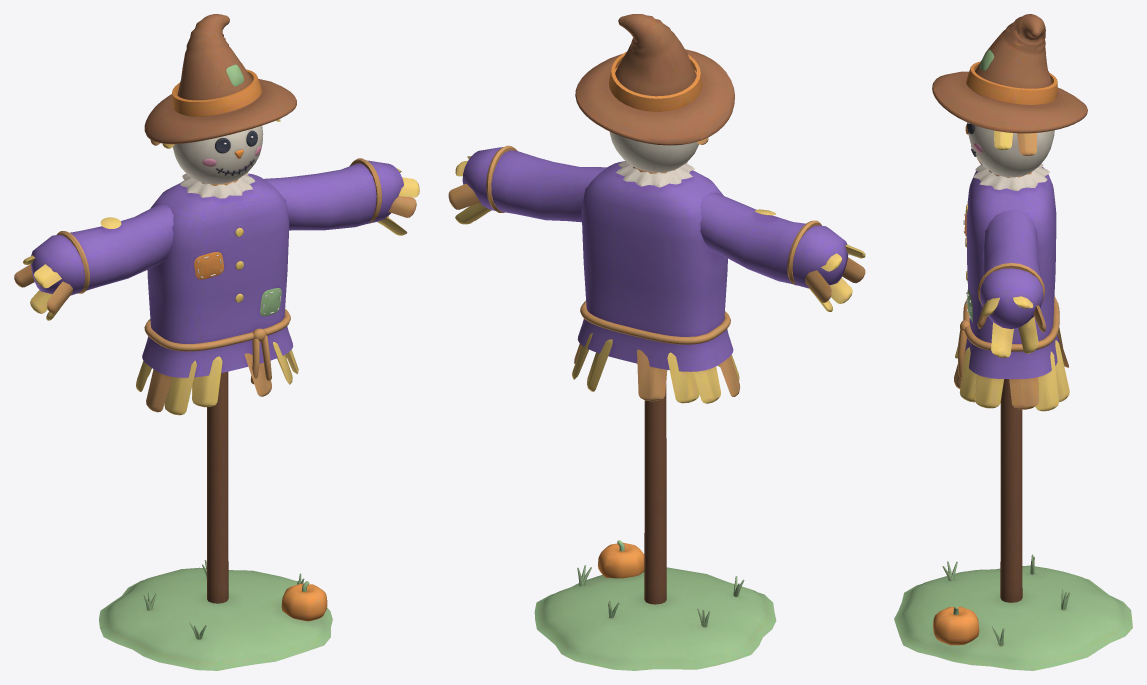
The model's file is espantapajaros.glb.
The picture shows the model from 3 angles, left to right: view 1: azimuth 30°, elevation 25°; view 2: azimuth 150°, elevation 25°; view 3: azimuth 270°, elevation 25°; orthographic projection. The views are drawn at different scales.
Visible parts, largest first — view 1: scarecrow_body; view 2: scarecrow_body; view 3: scarecrow_body.
Boxes of the visible parts, x1,y1,x2,y2 form: scarecrow_body: [14, 14, 419, 670]; scarecrow_body: [448, 14, 865, 670]; scarecrow_body: [894, 14, 1132, 670].
Size of the model in its own units: 1.22 by 1.81 by 0.6479.
Materials: 1 (1 with a texture image).
